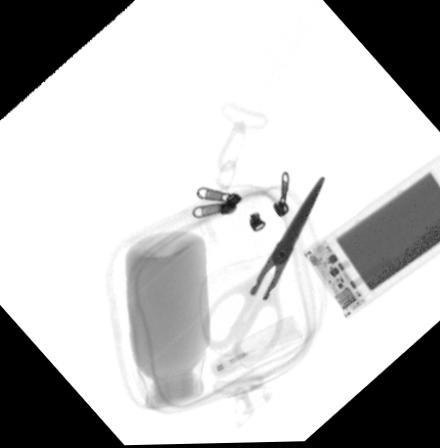Powerbank: (293, 152, 440, 323)
Scissors: (199, 173, 330, 370)
